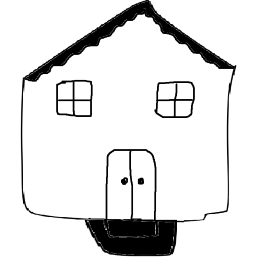big_house: (1, 1, 260, 260)
closed_window: (146, 70, 202, 127), (50, 76, 100, 125)
door: (97, 137, 165, 226)
roof: (14, 1, 250, 81)
wall: (15, 67, 241, 224)
